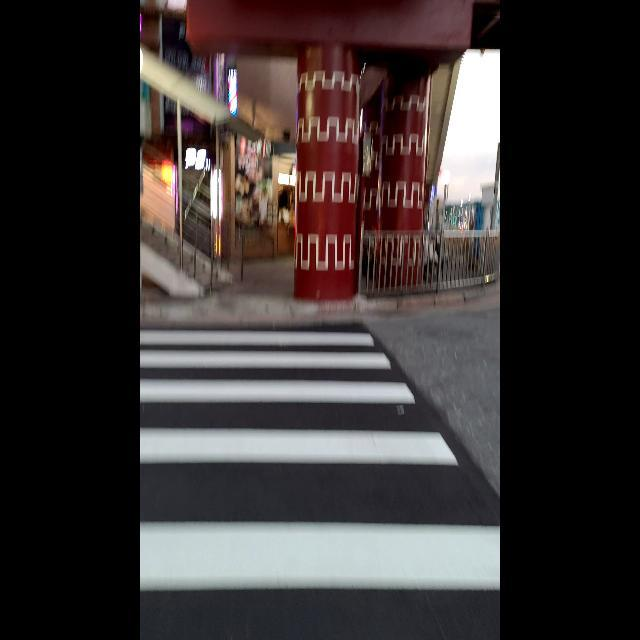sidewalk: (140, 321, 500, 599)
